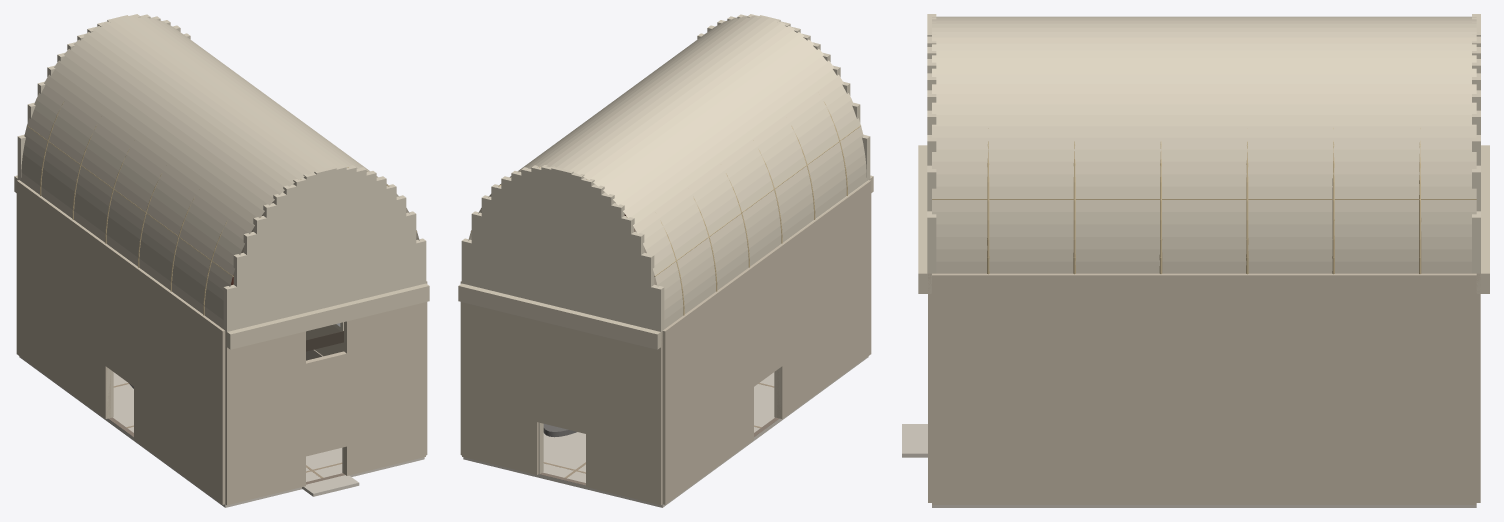
File: L_F02_RooseveltRotunda_FPS.glb
The picture shows the model from 3 angles, left to right: view 1: azimuth 30°, elevation 25°; view 2: azimuth 150°, elevation 25°; view 3: azimuth 270°, elevation 25°; orthographic projection. The views are drawn at different scales.
Visible parts, largest first — view 1: ARCH_L_F02_RooseveltRotunda_FPS; view 2: ARCH_L_F02_RooseveltRotunda_FPS; view 3: ARCH_L_F02_RooseveltRotunda_FPS.
Part boxes in pixels (left/top/right/bottom): ARCH_L_F02_RooseveltRotunda_FPS: left=14, top=14, right=429, bottom=507; ARCH_L_F02_RooseveltRotunda_FPS: left=458, top=14, right=873, bottom=507; ARCH_L_F02_RooseveltRotunda_FPS: left=902, top=14, right=1489, bottom=507.
Size of the model in its own units: 20.96 by 30.84 by 39.48.
